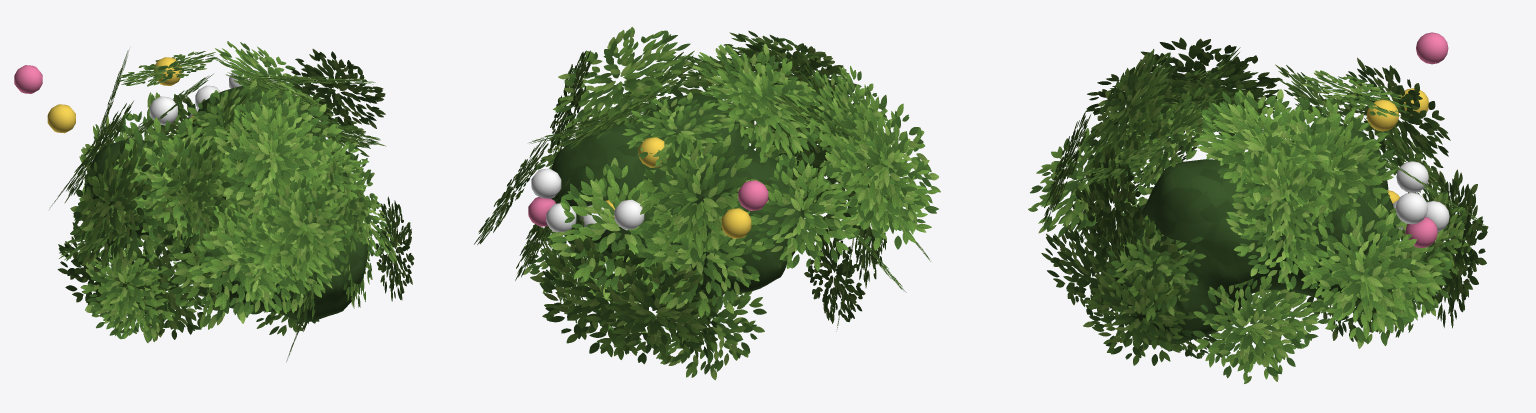
File: prop_bush.fbx
3 views of the same model, side by side, from view 1: azimuth 30°, elevation 25°; view 2: azimuth 150°, elevation 25°; view 3: azimuth 270°, elevation 25° (orthographic). The views are drawn at different scales.
Visible parts, largest first — view 1: leaves, prop_bush; view 2: leaves, prop_bush; view 3: leaves, prop_bush.
Part boxes in pixels (box(x1,y1,x2,y2)): leaves: box(49, 41, 414, 361); prop_bush: box(14, 57, 367, 321); leaves: box(474, 27, 940, 380); prop_bush: box(528, 94, 804, 311); leaves: box(1028, 37, 1488, 383); prop_bush: box(1107, 32, 1449, 345).
Bounding box in the file's own units: 1.07 × 0.7844 × 1.12.
